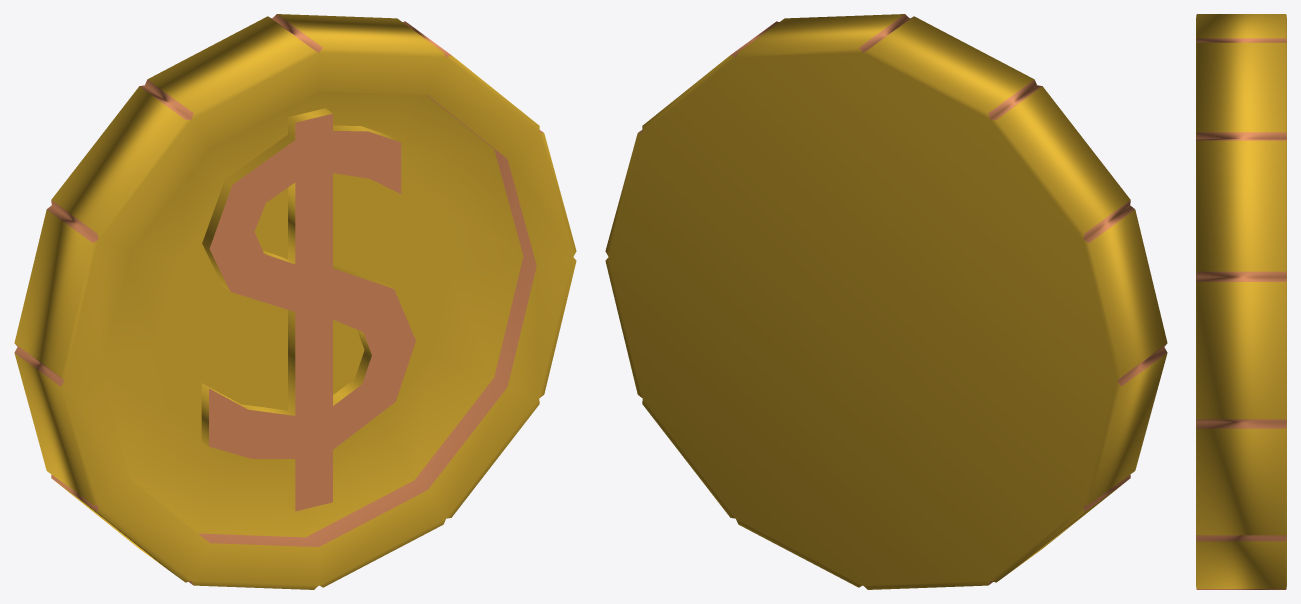
The model's file is Money.fbx.
3 renders of one model, left to right at view 1: azimuth 30°, elevation 25°; view 2: azimuth 150°, elevation 25°; view 3: azimuth 270°, elevation 25°, orthographic. The views are drawn at different scales.
Visible parts, largest first — view 1: Cylinder; view 2: Cylinder; view 3: Cylinder.
Part boxes in pixels (box(x1,y1,x2,y2)): Cylinder: box(14, 14, 576, 589); Cylinder: box(605, 14, 1167, 589); Cylinder: box(1196, 14, 1286, 589).
Size of the model in its own units: 203 by 203 by 31.94.
